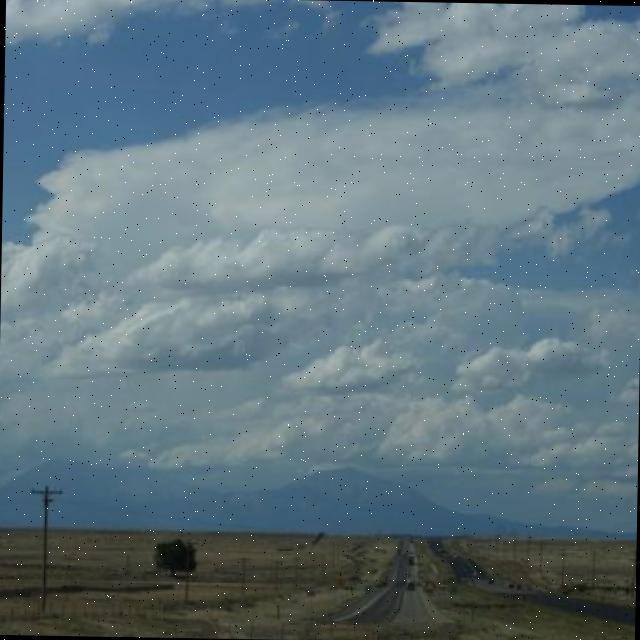Cb: (1, 1, 640, 468)
